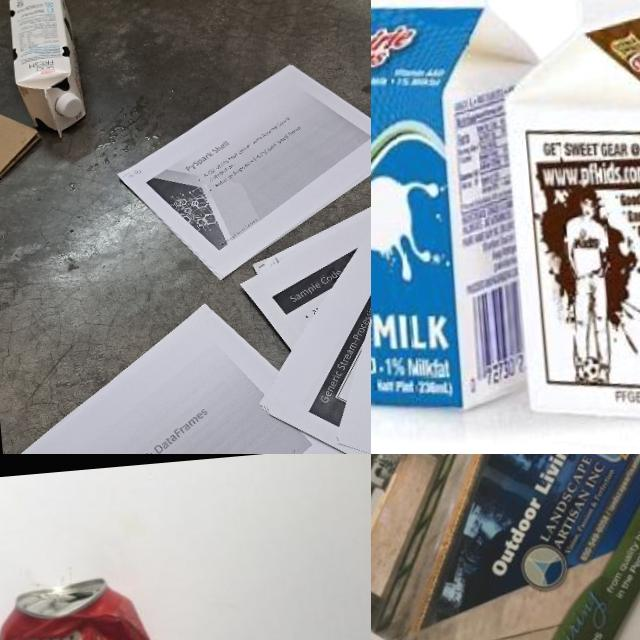caixinha: (371, 0, 548, 428), (486, 0, 640, 445), (4, 0, 88, 140)
lata: (0, 571, 172, 640)
papel: (115, 52, 371, 288), (0, 291, 368, 454), (371, 454, 640, 640), (233, 159, 371, 454)
papelão: (0, 91, 45, 195)
tampa plástica: (56, 88, 84, 122)
